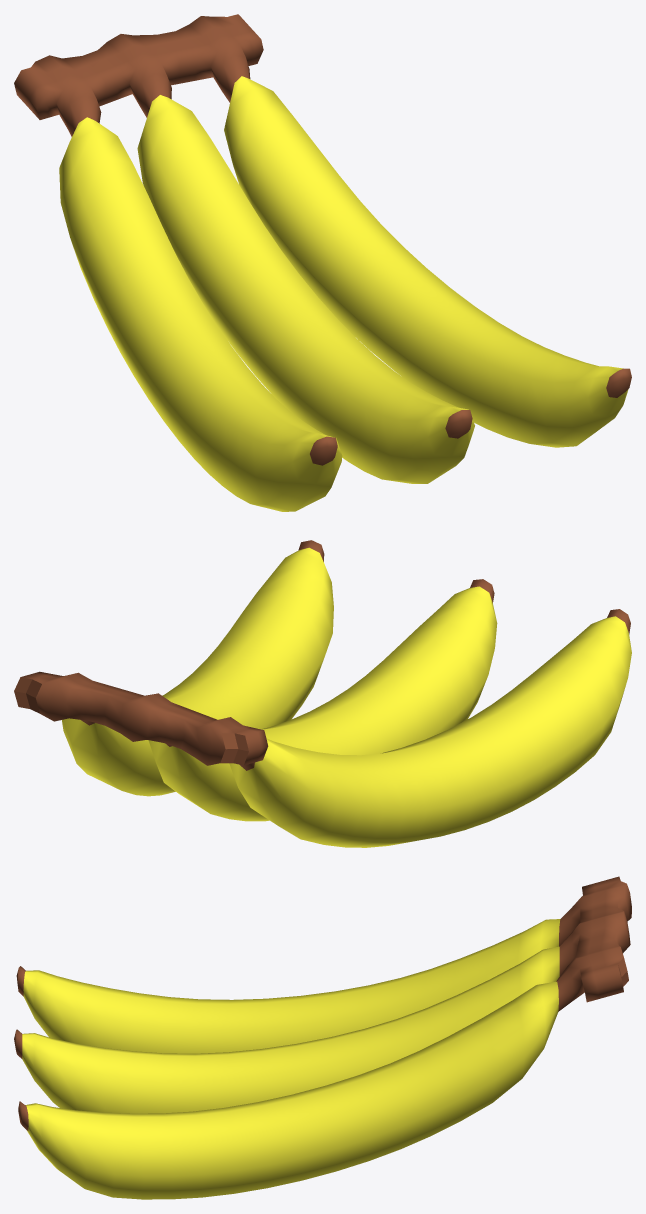
File: Asset_08_banana.fbx
3 views of the same model, one above another, from view 1: azimuth 30°, elevation 25°; view 2: azimuth 150°, elevation 25°; view 3: azimuth 270°, elevation 25° (orthographic). The views are drawn at different scales.
Parts seen in each view (by area): view 1: Cube.002; view 2: Cube.002; view 3: Cube.002.
Boxes of the visible parts, box(x1,y1,x2,y2) form: Cube.002: box(14, 14, 631, 511); Cube.002: box(14, 540, 631, 847); Cube.002: box(14, 876, 631, 1199).
Size of the model in its own units: 1270 by 836 by 2102.
